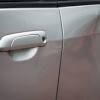doorouter-dent: (32, 7, 99, 99)
